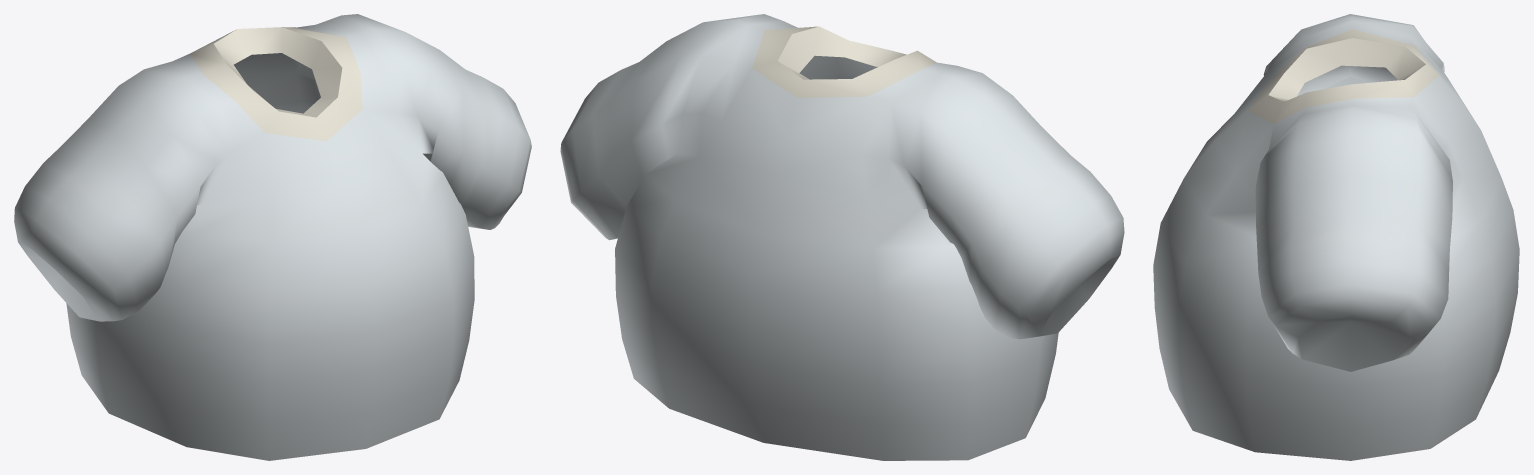
The model's file is Top_Fat.fbx.
3 renders of one model, left to right at view 1: azimuth 30°, elevation 25°; view 2: azimuth 150°, elevation 25°; view 3: azimuth 270°, elevation 25°, orthographic. The views are drawn at different scales.
Visible parts, largest first — view 1: Bottom_57.010; view 2: Bottom_57.010; view 3: Bottom_57.010.
Part boxes in pixels (x1,y1,x2,y2): Bottom_57.010: (14, 14, 531, 460); Bottom_57.010: (560, 14, 1124, 460); Bottom_57.010: (1153, 14, 1519, 460).
Bounding box in the file's own units: 79.3 × 50.87 × 51.49.
